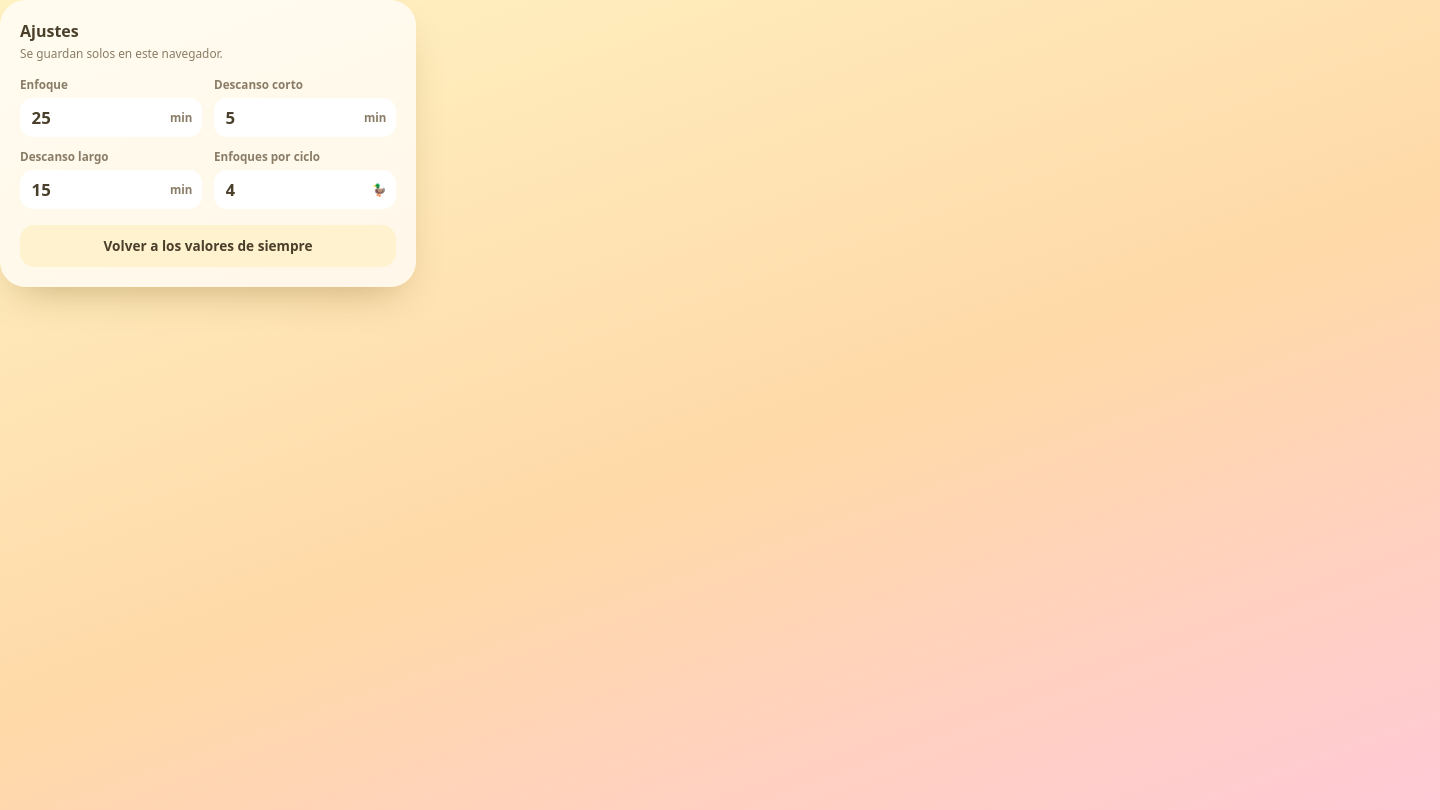
Test: Ajustes › acota los valores que se pasan del máximo
Replace the text in the number field labelled "Descanso corto" with "999" at (291, 118), box [224,105,358,130]
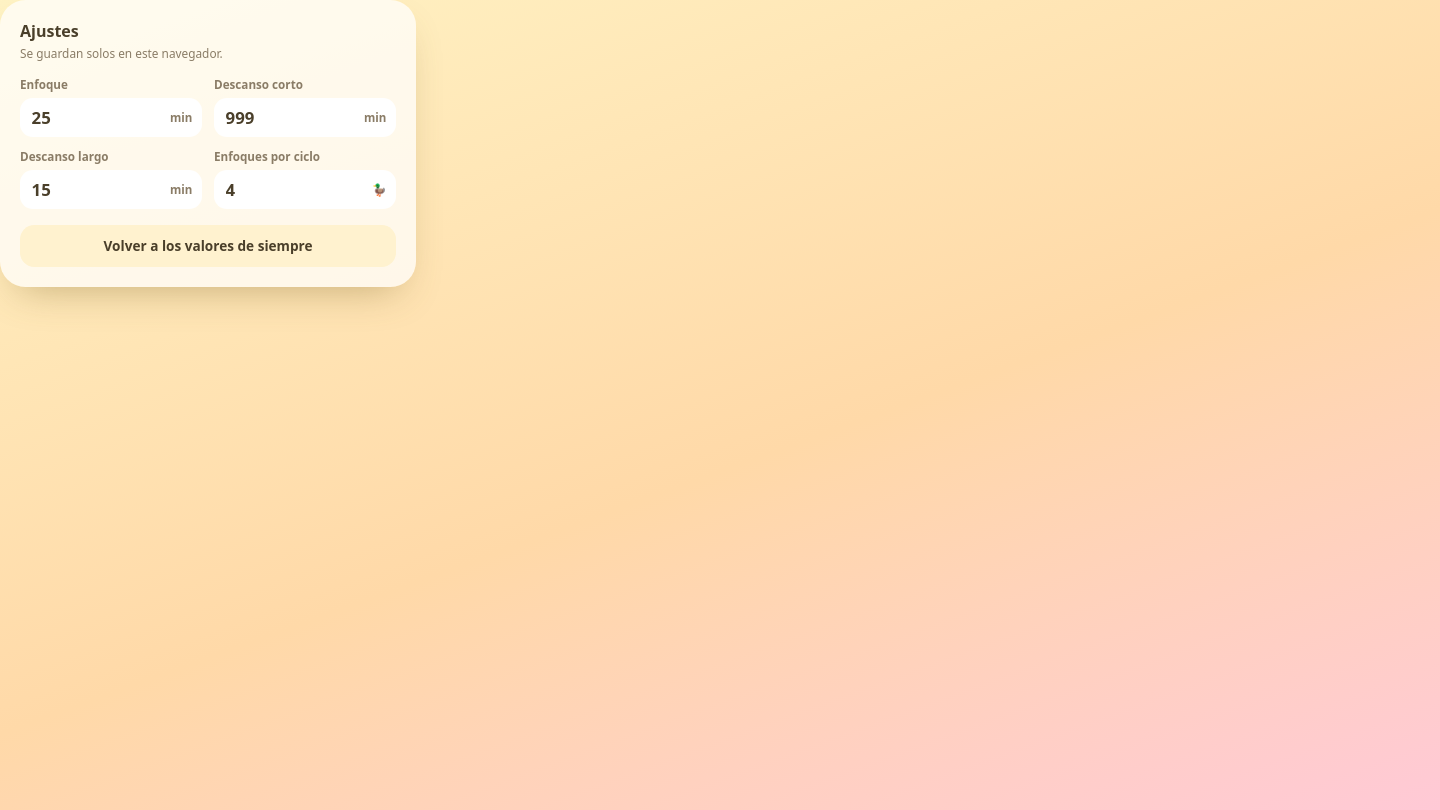
Leave the number field labelled "Descanso corto", box [224,105,358,130]
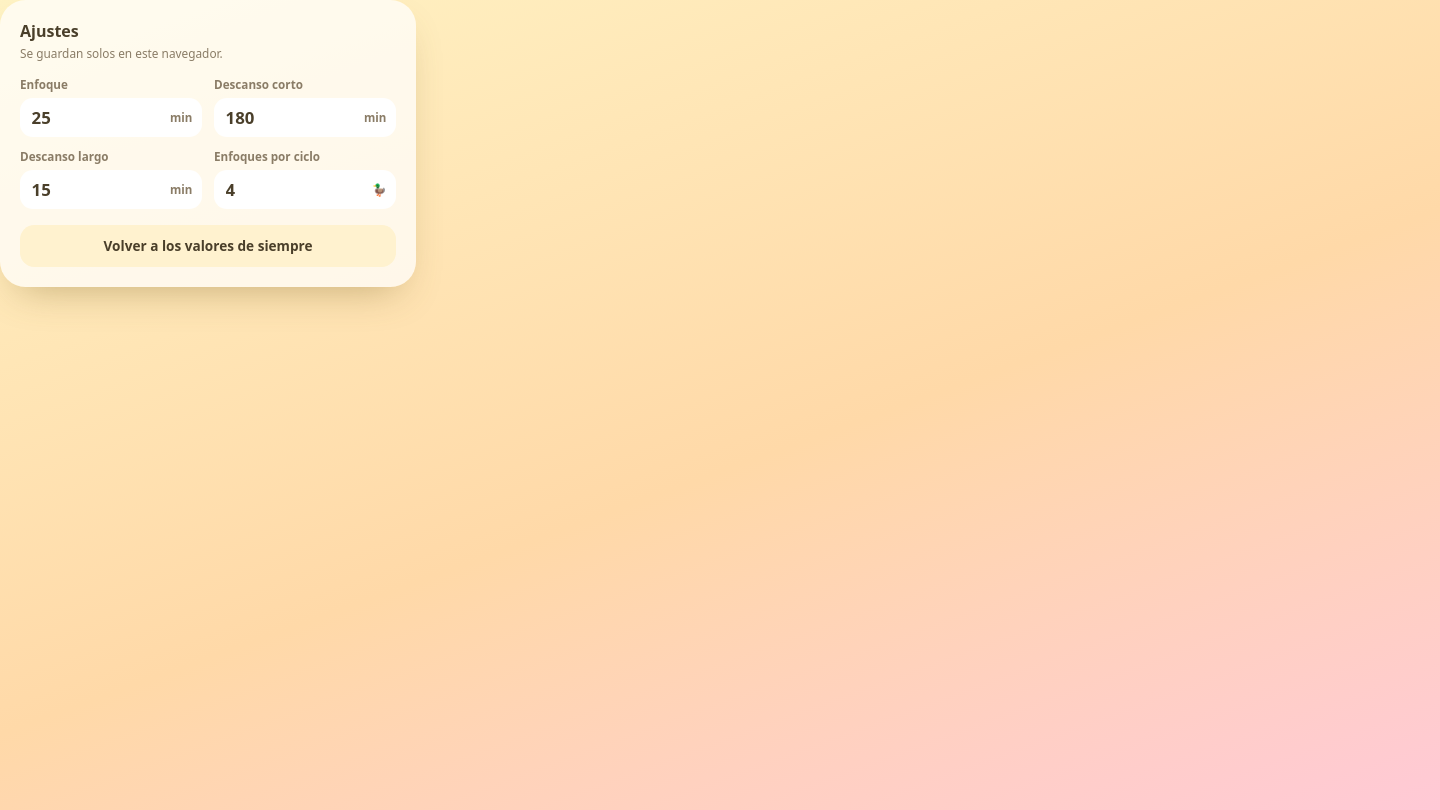
Now the number field labelled "Descanso corto" holds "180", box [224,105,358,130]
